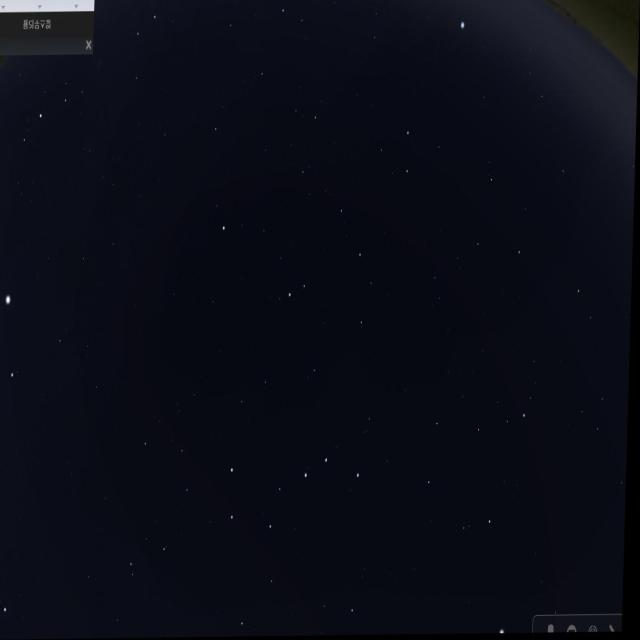ursa_major: (224, 406, 365, 534)
